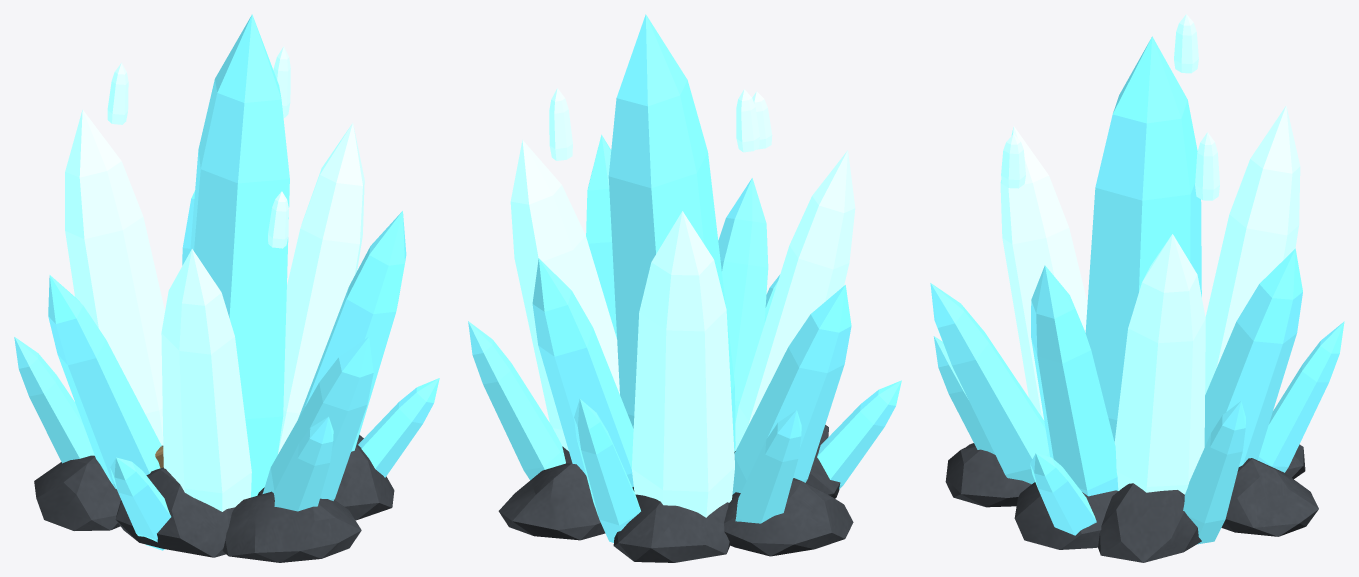
File: scenery_crystal.glb
3 renders of one model, left to right at view 1: azimuth 30°, elevation 25°; view 2: azimuth 150°, elevation 25°; view 3: azimuth 270°, elevation 25°, orthographic.
Parts seen in each view (by area): view 1: central crystal spire, inner glowing core, crystal bedrock 0; view 2: central crystal spire, inner glowing core, crystal bedrock 0; view 3: central crystal spire, inner glowing core, crystal bedrock 0.
Boxes of the visible parts, x1,y1,x2,y2 form: central crystal spire: (14,14,439,550); inner glowing core: (65,46,364,511); crystal bedrock 0: (34,435,394,562); central crystal spire: (468,14,901,542); inner glowing core: (510,88,855,517); crystal bedrock 0: (498,425,853,562); central crystal spire: (930,36,1344,544); inner glowing core: (1000,14,1300,494); crystal bedrock 0: (945,443,1318,562).
Bounding box in the file's own units: 1.46 × 1.98 × 1.57.
4 materials, 2 textured.
